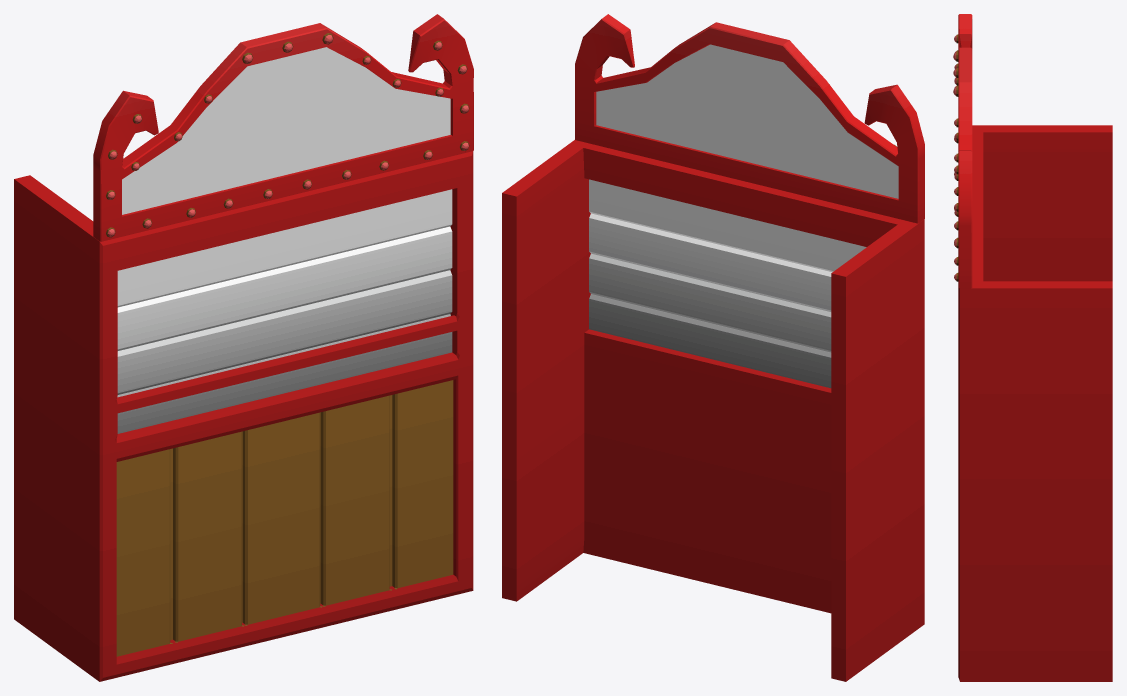
Rendered from TicketBooth.fbx.
3 views of the same model, side by side, from view 1: azimuth 30°, elevation 25°; view 2: azimuth 150°, elevation 25°; view 3: azimuth 270°, elevation 25° (orthographic). The views are drawn at different scales.
Parts seen in each view (by area): view 1: TicketBooth_02, Gate, TicketSign; view 2: TicketBooth_02, TicketSign, Gate; view 3: TicketBooth_02, TicketSign.
Part boxes in pixels (<box>): TicketBooth_02: <box>14,151,473,681</box>; Gate: <box>117,189,452,433</box>; TicketSign: <box>93,14,473,241</box>; TicketBooth_02: <box>502,140,924,681</box>; TicketSign: <box>575,14,924,223</box>; Gate: <box>589,179,866,388</box>; TicketBooth_02: <box>958,125,1112,681</box>; TicketSign: <box>958,14,972,288</box>.
Bounding box in the file's own units: 6.92 × 10.59 × 2.86.
